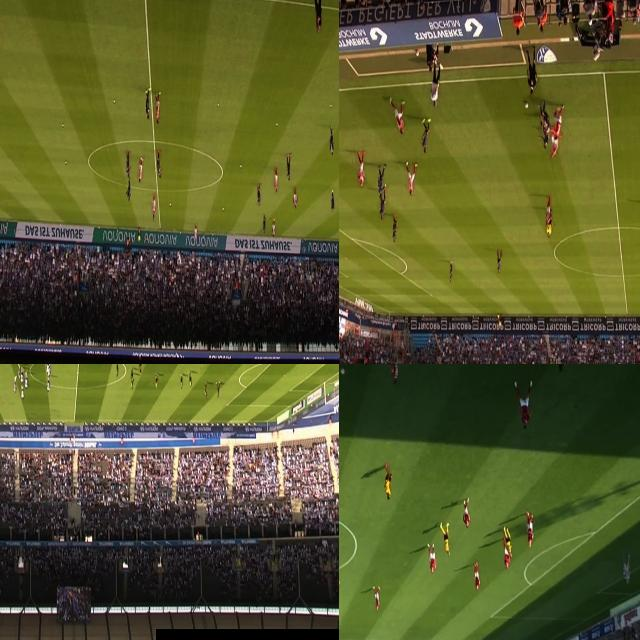ball: (340, 365, 347, 377), (524, 100, 530, 112), (64, 162, 68, 167), (222, 206, 225, 212), (240, 163, 242, 170), (114, 98, 116, 104), (169, 201, 171, 207), (62, 123, 64, 128), (218, 103, 220, 107), (276, 122, 278, 126), (330, 105, 332, 108)
player: (514, 376, 536, 433), (390, 99, 404, 135), (439, 519, 452, 557), (552, 104, 564, 144), (421, 118, 432, 156), (383, 364, 401, 387), (526, 509, 536, 549), (384, 462, 394, 501), (406, 160, 416, 198), (550, 126, 560, 160), (427, 542, 437, 574), (357, 154, 366, 188), (503, 524, 512, 558), (503, 537, 511, 571), (462, 495, 470, 529), (622, 550, 630, 584), (379, 187, 387, 220), (540, 104, 548, 134), (544, 196, 552, 226), (472, 562, 480, 592), (372, 584, 380, 610), (542, 116, 548, 150), (378, 165, 384, 199), (155, 92, 161, 124), (146, 88, 152, 118), (392, 213, 398, 243), (156, 149, 162, 177), (330, 126, 336, 154), (138, 157, 144, 183), (125, 150, 131, 176), (497, 246, 502, 276), (273, 168, 279, 192), (449, 262, 454, 284), (16, 364, 22, 382), (288, 156, 292, 182), (204, 382, 209, 402), (128, 178, 132, 201), (258, 183, 262, 206), (46, 374, 51, 392), (13, 374, 18, 392), (272, 219, 276, 239), (216, 382, 220, 402), (294, 189, 298, 208), (180, 373, 184, 392), (263, 215, 267, 233), (137, 364, 143, 376), (25, 372, 29, 390), (20, 368, 24, 386), (155, 372, 159, 390), (115, 364, 119, 381), (20, 383, 24, 400), (188, 372, 192, 388), (130, 376, 134, 392), (331, 192, 334, 212), (45, 364, 50, 375), (153, 195, 156, 212), (195, 226, 198, 242), (48, 364, 51, 379), (152, 205, 154, 221), (132, 369, 134, 384)
